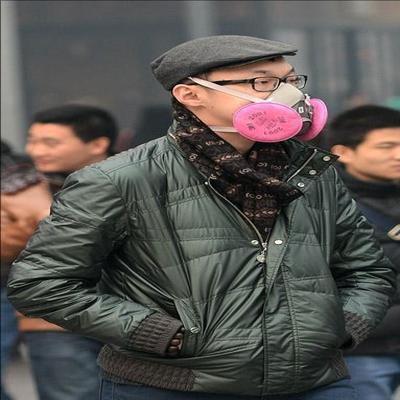Face_Mask_Found: (234, 87, 317, 170)
Face_Mask_Not_Found: (22, 135, 66, 179), (369, 152, 400, 182)
